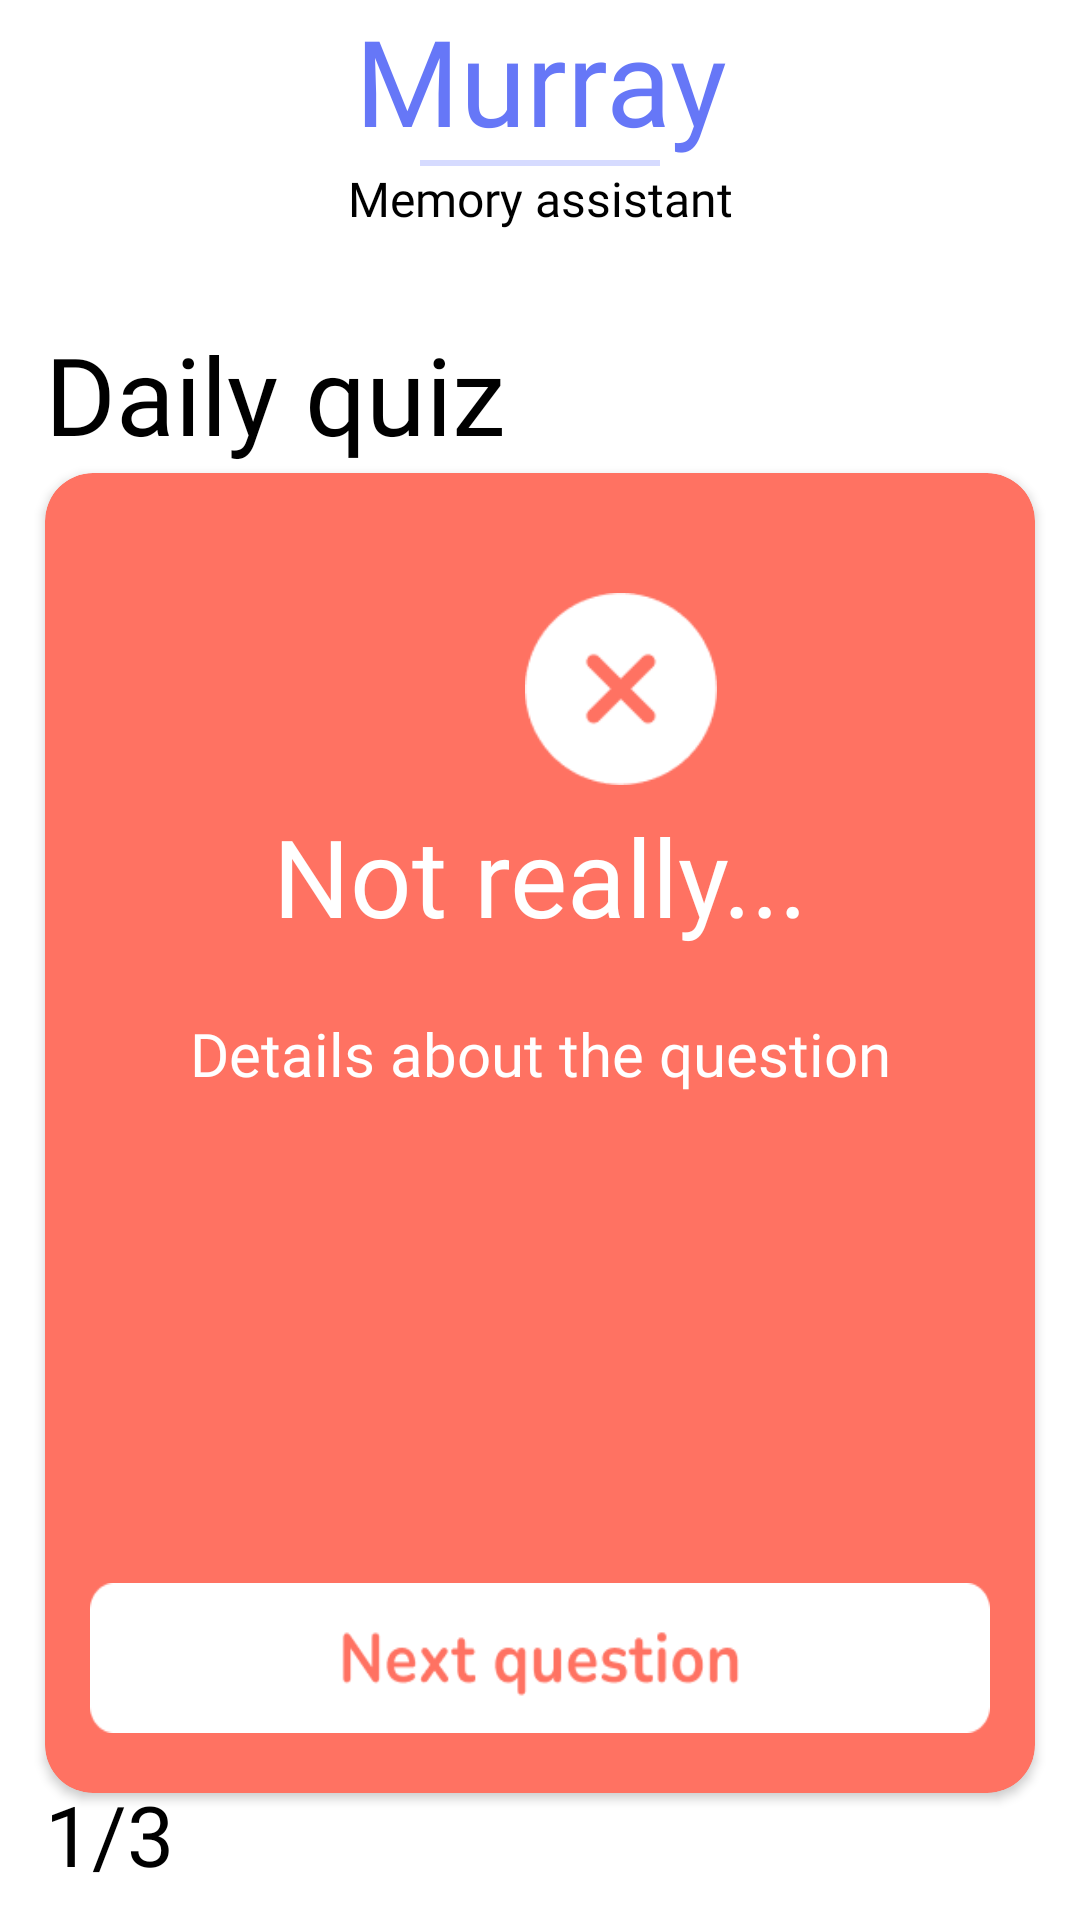

Icons on this 1080*1920 Android screen, each with its box as [x1, y1, x2, y2]:
failure tick: [525, 593, 717, 785]
